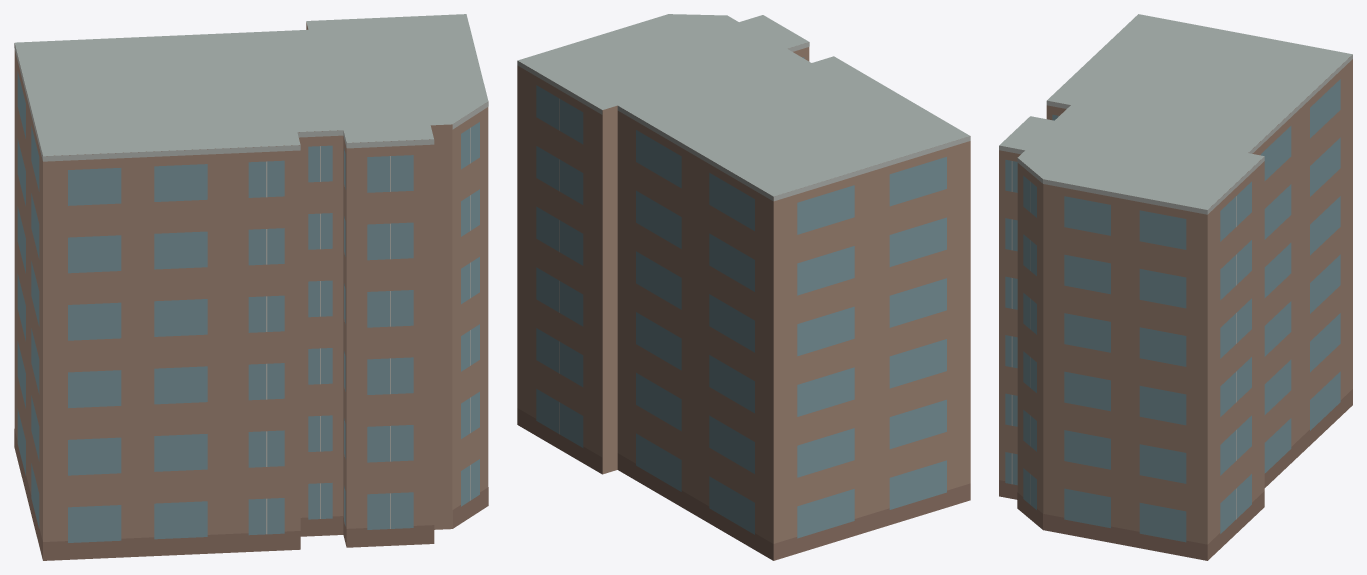
File: survey-upis-32669150.glb
The picture shows the model from 3 angles, left to right: view 1: azimuth 30°, elevation 25°; view 2: azimuth 150°, elevation 25°; view 3: azimuth 270°, elevation 25°; orthographic projection. The views are drawn at different scales.
Visible parts, largest first — view 1: survey-upis-32669150.tmp; view 2: survey-upis-32669150.tmp; view 3: survey-upis-32669150.tmp.
Part boxes in pixels (x1,y1,x2,y2): survey-upis-32669150.tmp: [14, 14, 488, 560]; survey-upis-32669150.tmp: [517, 14, 970, 560]; survey-upis-32669150.tmp: [999, 14, 1352, 560].
Bounding box in the file's own units: 21.82 × 18.2 × 16.64.
